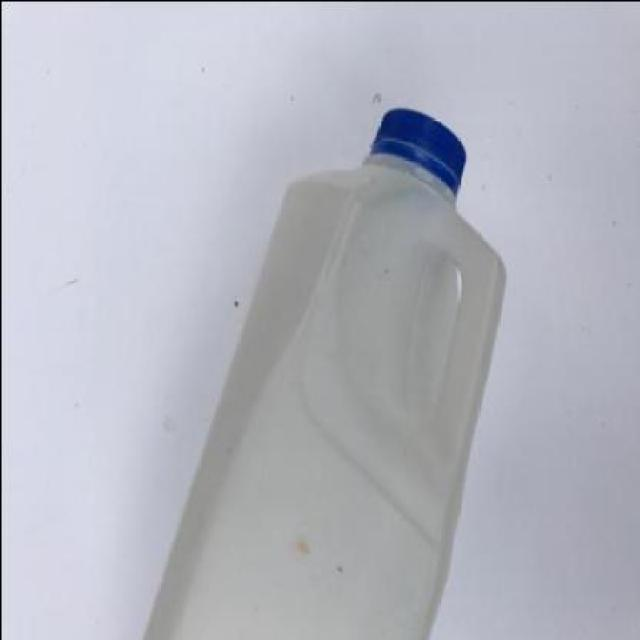PLASTIC: (140, 111, 506, 638), (367, 107, 465, 199)
